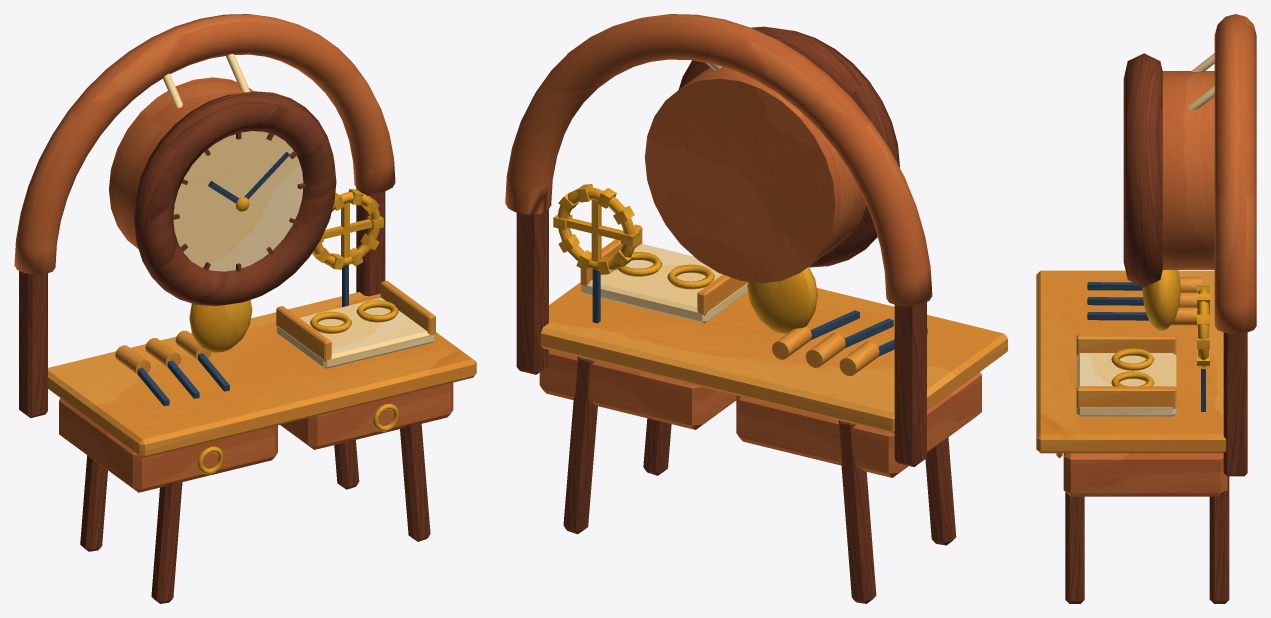
The model's file is 03_宫崎骏参考_水粉.glb.
The picture shows the model from 3 angles, left to right: view 1: azimuth 30°, elevation 25°; view 2: azimuth 150°, elevation 25°; view 3: azimuth 270°, elevation 25°; orthographic projection. The views are drawn at different scales.
Visible parts, largest first — view 1: clock_station; view 2: clock_station; view 3: clock_station.
Boxes of the visible parts, box(x1,y1,x2,y2) form: clock_station: box(14, 14, 476, 603); clock_station: box(505, 14, 1007, 603); clock_station: box(1036, 14, 1256, 603).
Size of the model in its own units: 1.37 by 1.72 by 0.685.
Materials: 2 (2 with a texture image).
